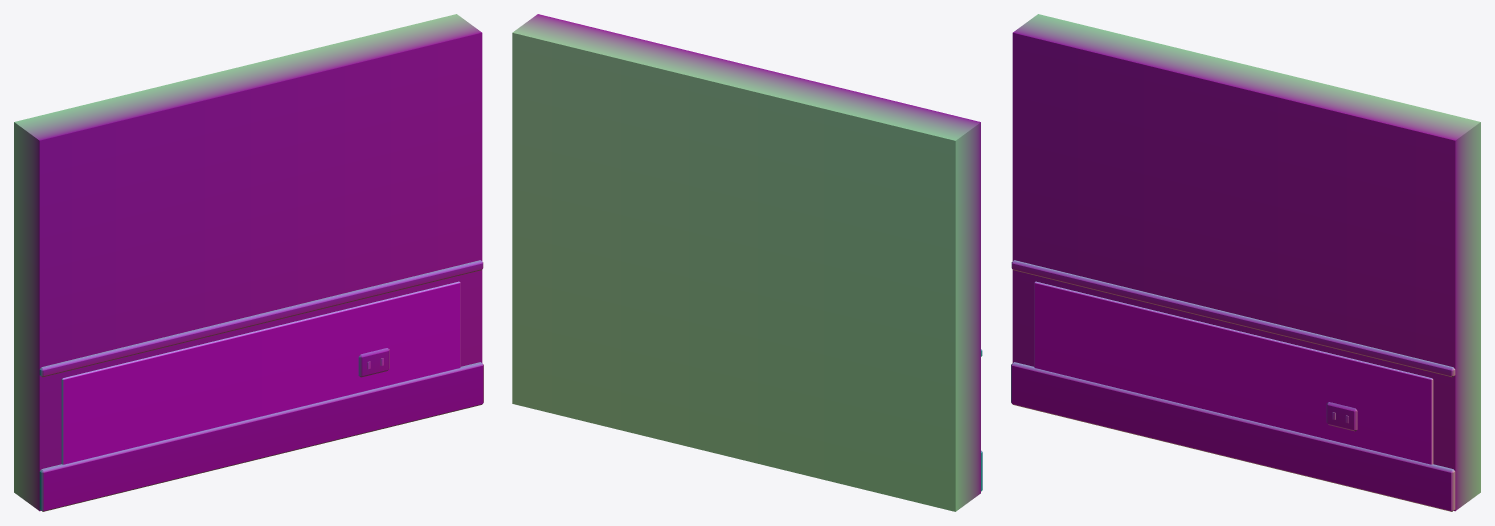
The model's file is env_wall.glb.
The picture shows the model from 3 angles, left to right: view 1: azimuth 30°, elevation 25°; view 2: azimuth 150°, elevation 25°; view 3: azimuth 330°, elevation 25°; orthographic projection.
Visible parts, largest first — view 1: env_wall_mesh; view 2: env_wall_mesh; view 3: env_wall_mesh.
Boxes of the visible parts, left/top/right/bottom form: env_wall_mesh: left=14, top=14, right=483, bottom=511; env_wall_mesh: left=512, top=14, right=982, bottom=511; env_wall_mesh: left=1011, top=14, right=1480, bottom=511.
Bounding box in the file's own units: 2 × 1.6 × 0.233.
